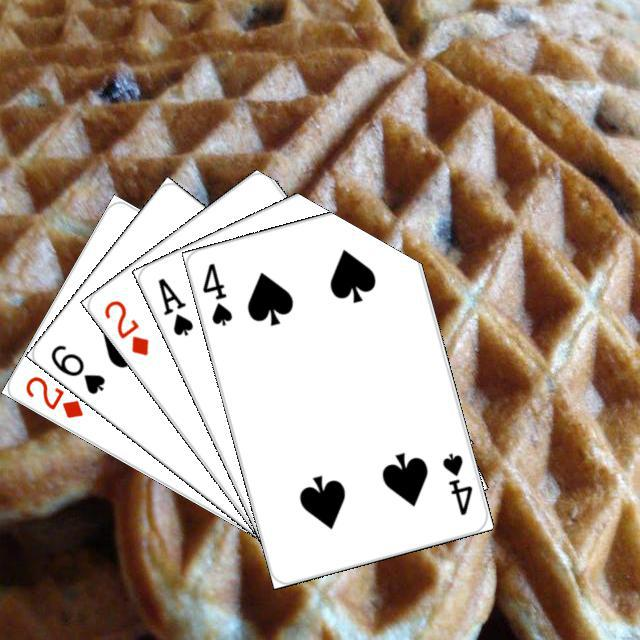2d: (99, 295, 151, 358), (20, 371, 85, 421)
4s: (437, 447, 474, 518), (197, 258, 234, 328)
6s: (45, 339, 107, 397)
As: (152, 272, 195, 338)
